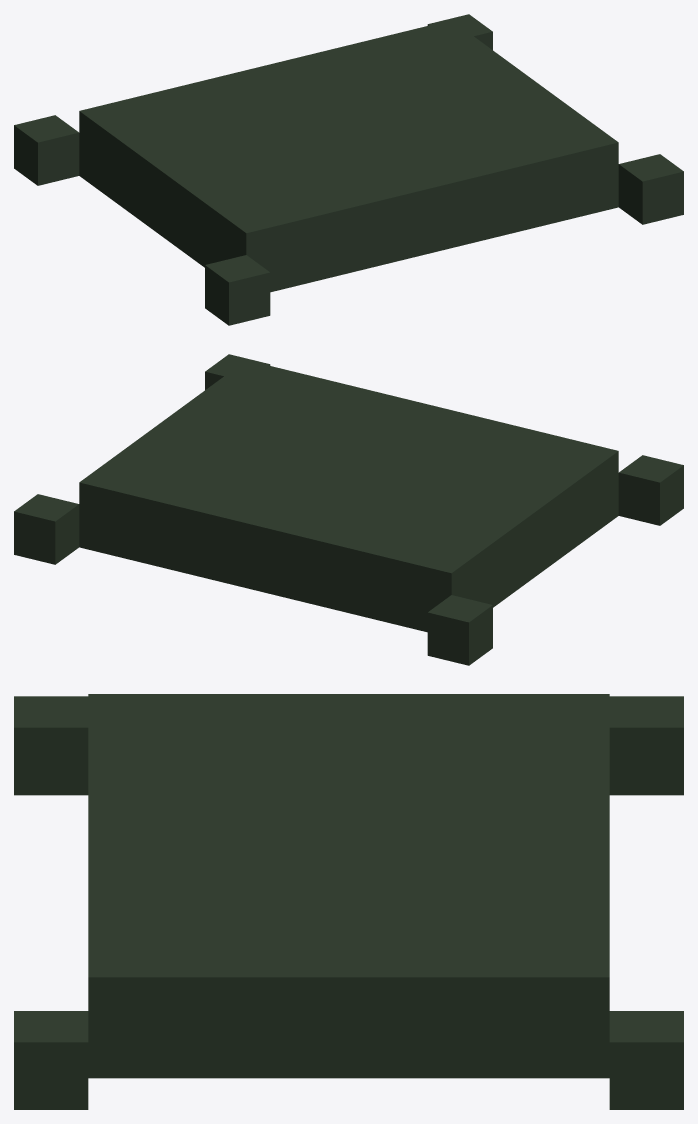
File: tutorial.vox-0-mat.obj
3 renders of one model, top to bottom at view 1: azimuth 30°, elevation 25°; view 2: azimuth 150°, elevation 25°; view 3: azimuth 270°, elevation 25°, orthographic. The views are drawn at different scales.
Parts seen in each view (by area): view 1: mat; view 2: mat; view 3: mat.
Part boxes in pixels (x1=…): mat: x1=14, y1=14, x2=683, y2=325; mat: x1=14, y1=354, x2=683, y2=665; mat: x1=14, y1=694, x2=683, y2=1109.
Bounding box in the file's own units: 2.2 × 0.3 × 1.8.
Materials: 1 (1 with a texture image).
